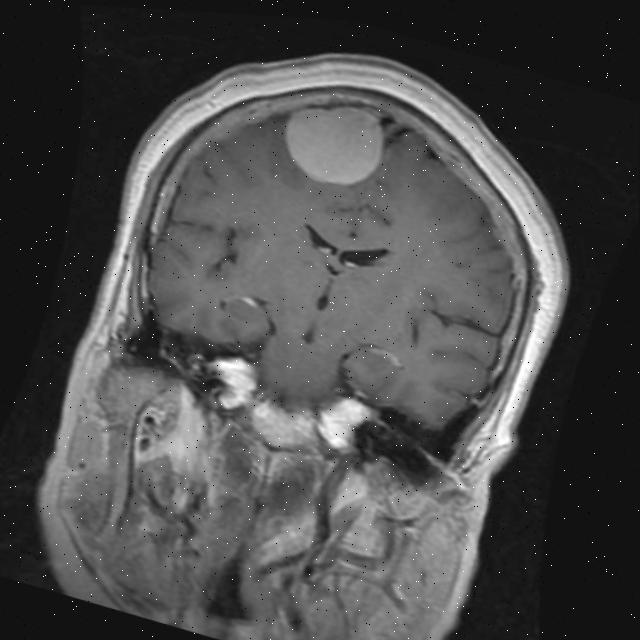Meningioma: (275, 87, 390, 198)
Pituitary: (241, 394, 318, 457)
